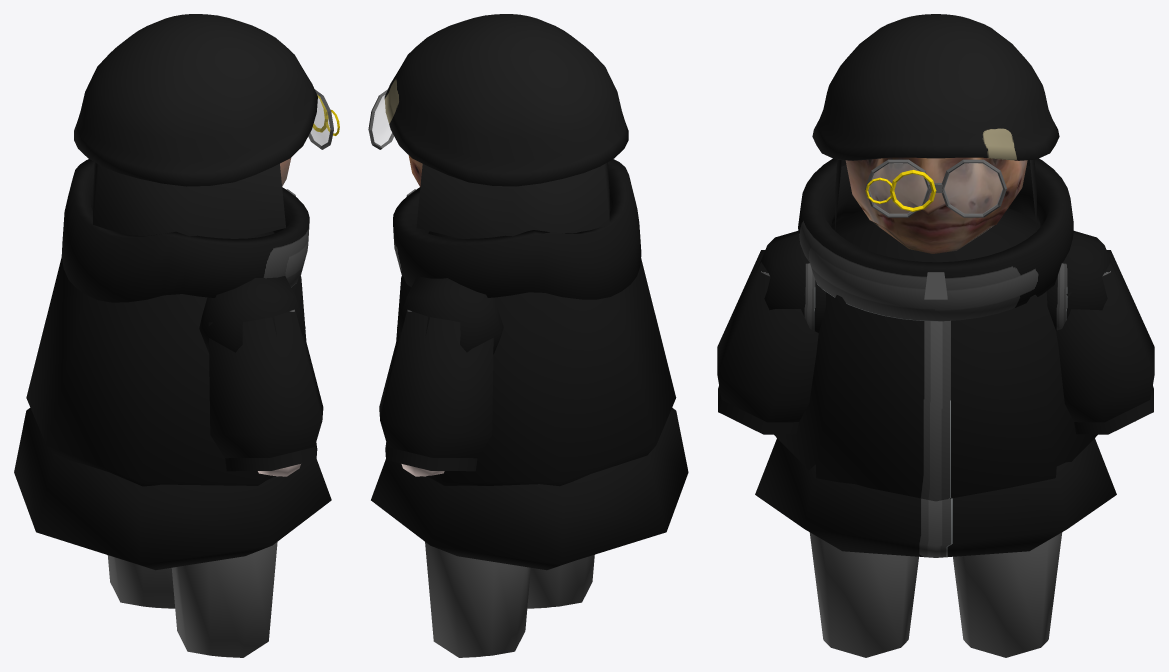
The model's file is fakemetaljacket.glb.
3 views of the same model, side by side, from view 1: azimuth 30°, elevation 25°; view 2: azimuth 150°, elevation 25°; view 3: azimuth 270°, elevation 25° (orthographic). The views are drawn at different scales.
Parts seen in each view (by area): view 1: fake metal helmet, Cube.002, Cube.003, Torus.001, Cylinder, Cylinder.002, Cube.007, Cube.004, Cube.006, Cube; view 2: Cube.002, fake metal helmet, Cube.003, Torus.001, Cylinder.001, Cylinder.002, Cube.006, Cube.005, Cube.007, Cube; view 3: Cube.002, fake metal helmet, Cube.003, Torus.001, Cylinder, Cylinder.001, Cube.001, Cube.007, Cube.006, Cube, Cube.004, Cube.005 (+1 smaller).
Part boxes in pixels (x1,y1,x2,y2): fake metal helmet: (74, 14, 317, 186); Cube.002: (26, 231, 306, 486); Cube.003: (14, 407, 331, 570); Torus.001: (61, 159, 309, 302); Cylinder: (208, 309, 323, 471); Cylinder.002: (92, 162, 285, 238); Cube.007: (171, 542, 277, 657); Cube.004: (199, 276, 305, 353); Cube.006: (107, 555, 175, 608); Cube: (308, 89, 333, 149); Cube.002: (396, 231, 676, 486); fake metal helmet: (384, 14, 628, 186); Cube.003: (371, 407, 688, 570); Torus.001: (393, 159, 641, 299); Cylinder.001: (379, 309, 493, 471); Cylinder.002: (416, 162, 609, 238); Cube.006: (425, 542, 530, 657); Cube.005: (397, 276, 503, 354); Cube.007: (527, 554, 594, 608); Cube: (368, 89, 394, 149); Cube.002: (774, 208, 1097, 501); fake metal helmet: (812, 14, 1059, 160); Cube.003: (755, 438, 1116, 557); Torus.001: (798, 158, 1073, 321); Cylinder: (717, 250, 818, 434); Cylinder.001: (1056, 250, 1154, 434); Cube.001: (845, 157, 1027, 253); Cube.007: (809, 532, 918, 657); Cube.006: (953, 532, 1062, 657); Cube: (865, 159, 1006, 217); Cube.004: (755, 231, 825, 332); Cube.005: (1046, 231, 1116, 330).
Bounding box in the file's own units: 2.36 × 4.98 × 3.12.
9 materials, 3 textured.
